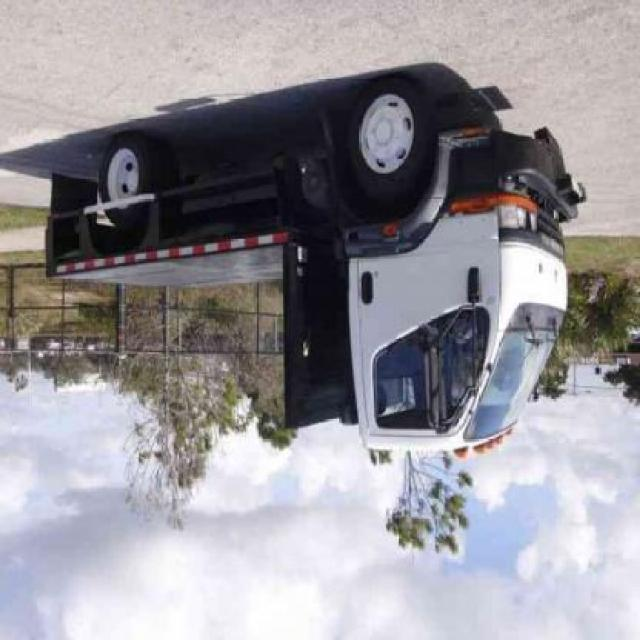truck: (46, 86, 585, 459)
